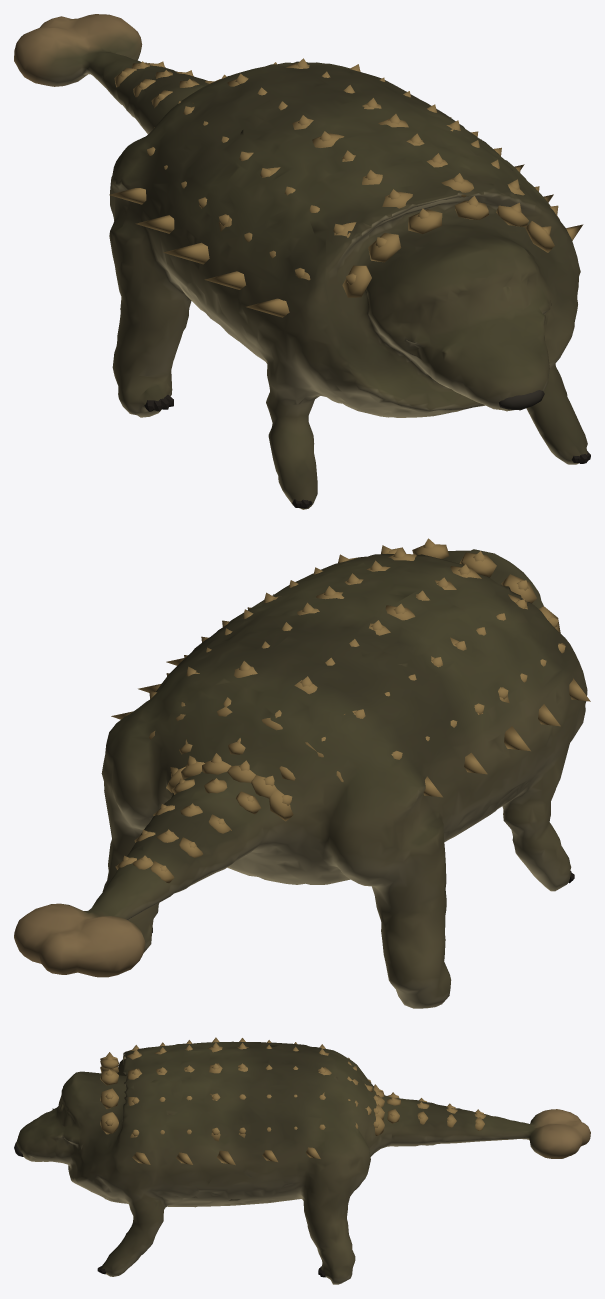
Rendered from Euoplocephalus.fbx.
3 views of the same model, one above another, from view 1: azimuth 30°, elevation 25°; view 2: azimuth 150°, elevation 25°; view 3: azimuth 270°, elevation 25° (orthographic). The views are drawn at different scales.
Parts seen in each view (by area): view 1: Euoplocephalus; view 2: Euoplocephalus; view 3: Euoplocephalus.
Boxes of the visible parts, box(x1,y1,x2,y2) form: Euoplocephalus: box(14, 14, 590, 509); Euoplocephalus: box(14, 538, 590, 1008); Euoplocephalus: box(14, 1037, 590, 1284).
Bounding box in the file's own units: 0.7097 × 0.5959 × 1.63.
